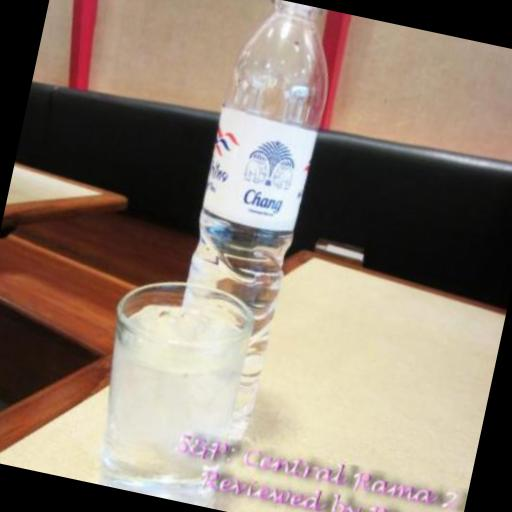Coca: (138, 0, 345, 467)
